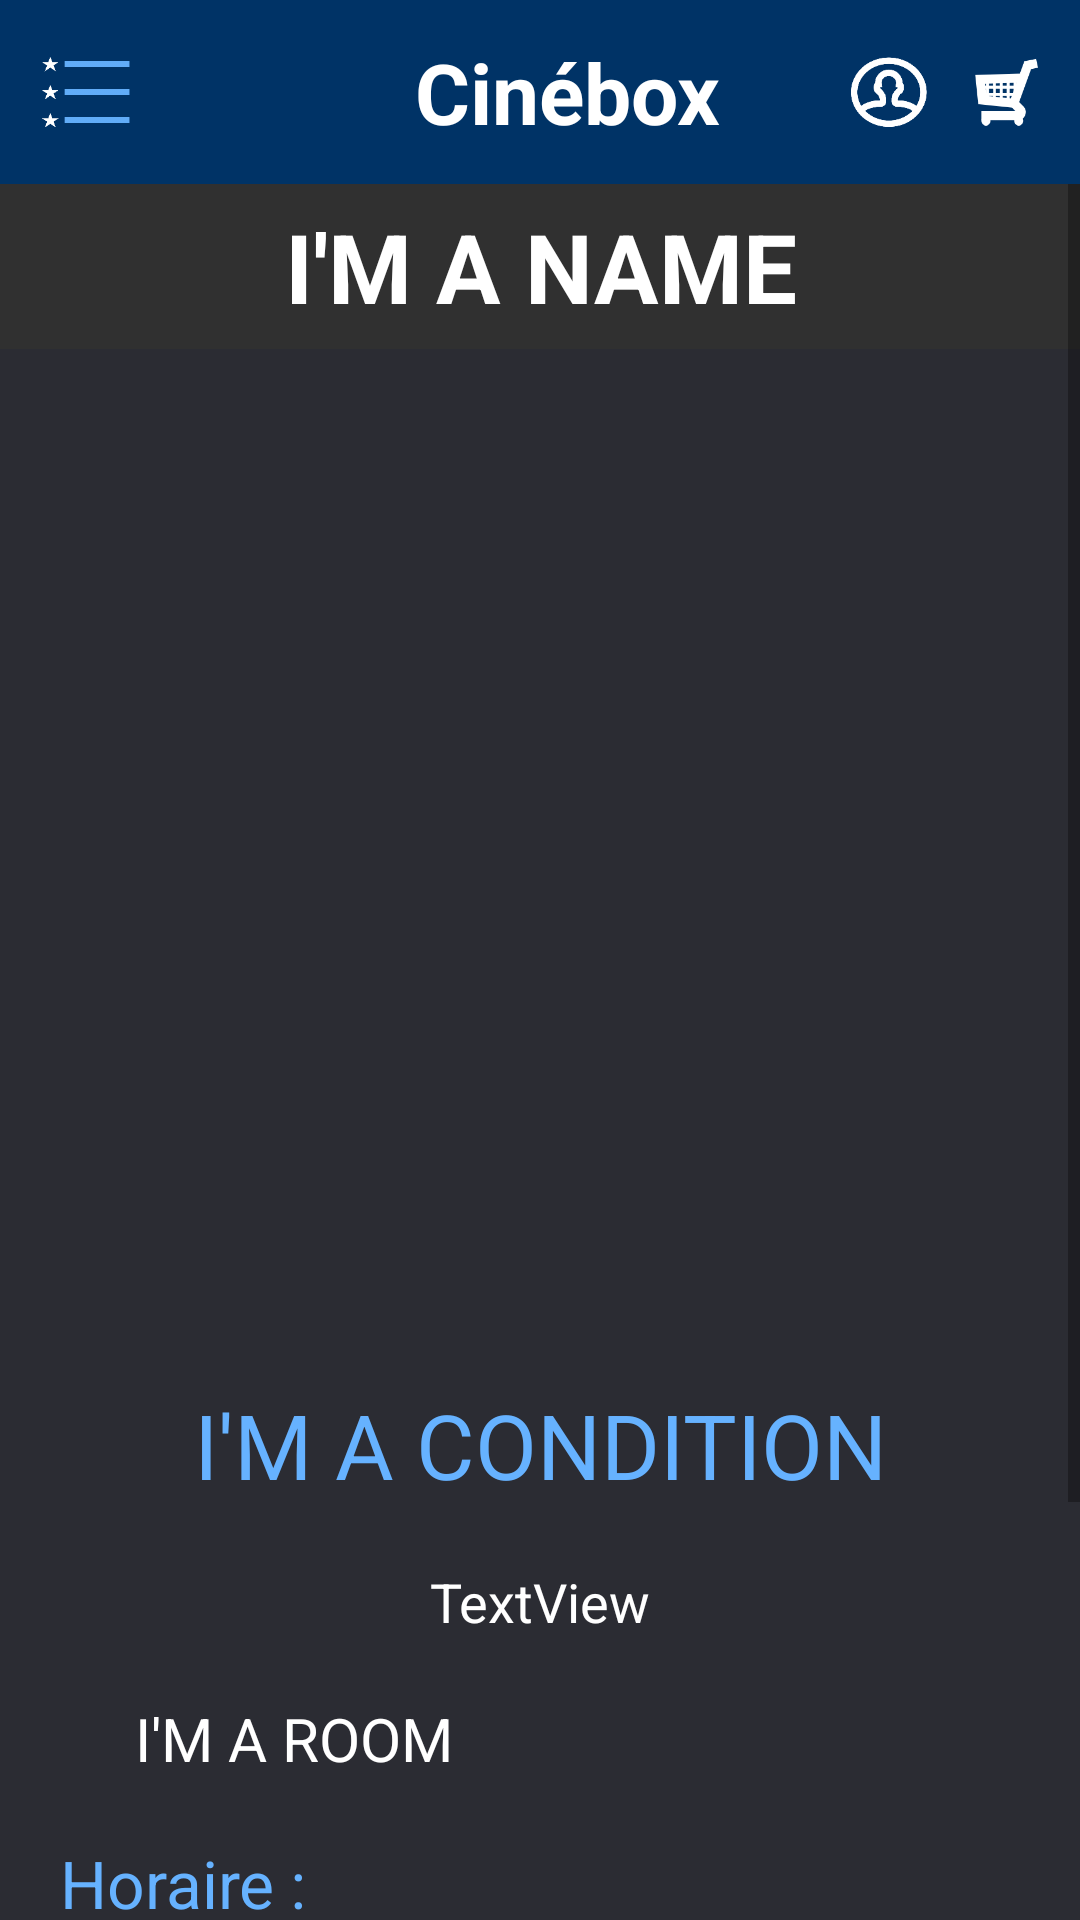

Icons on this 1080 × 1920 Android screen, each with its box as (x1, y1, x2, y2):
cart: (975, 59, 1038, 126)
list: (42, 57, 130, 127)
profil: (851, 57, 927, 127)
